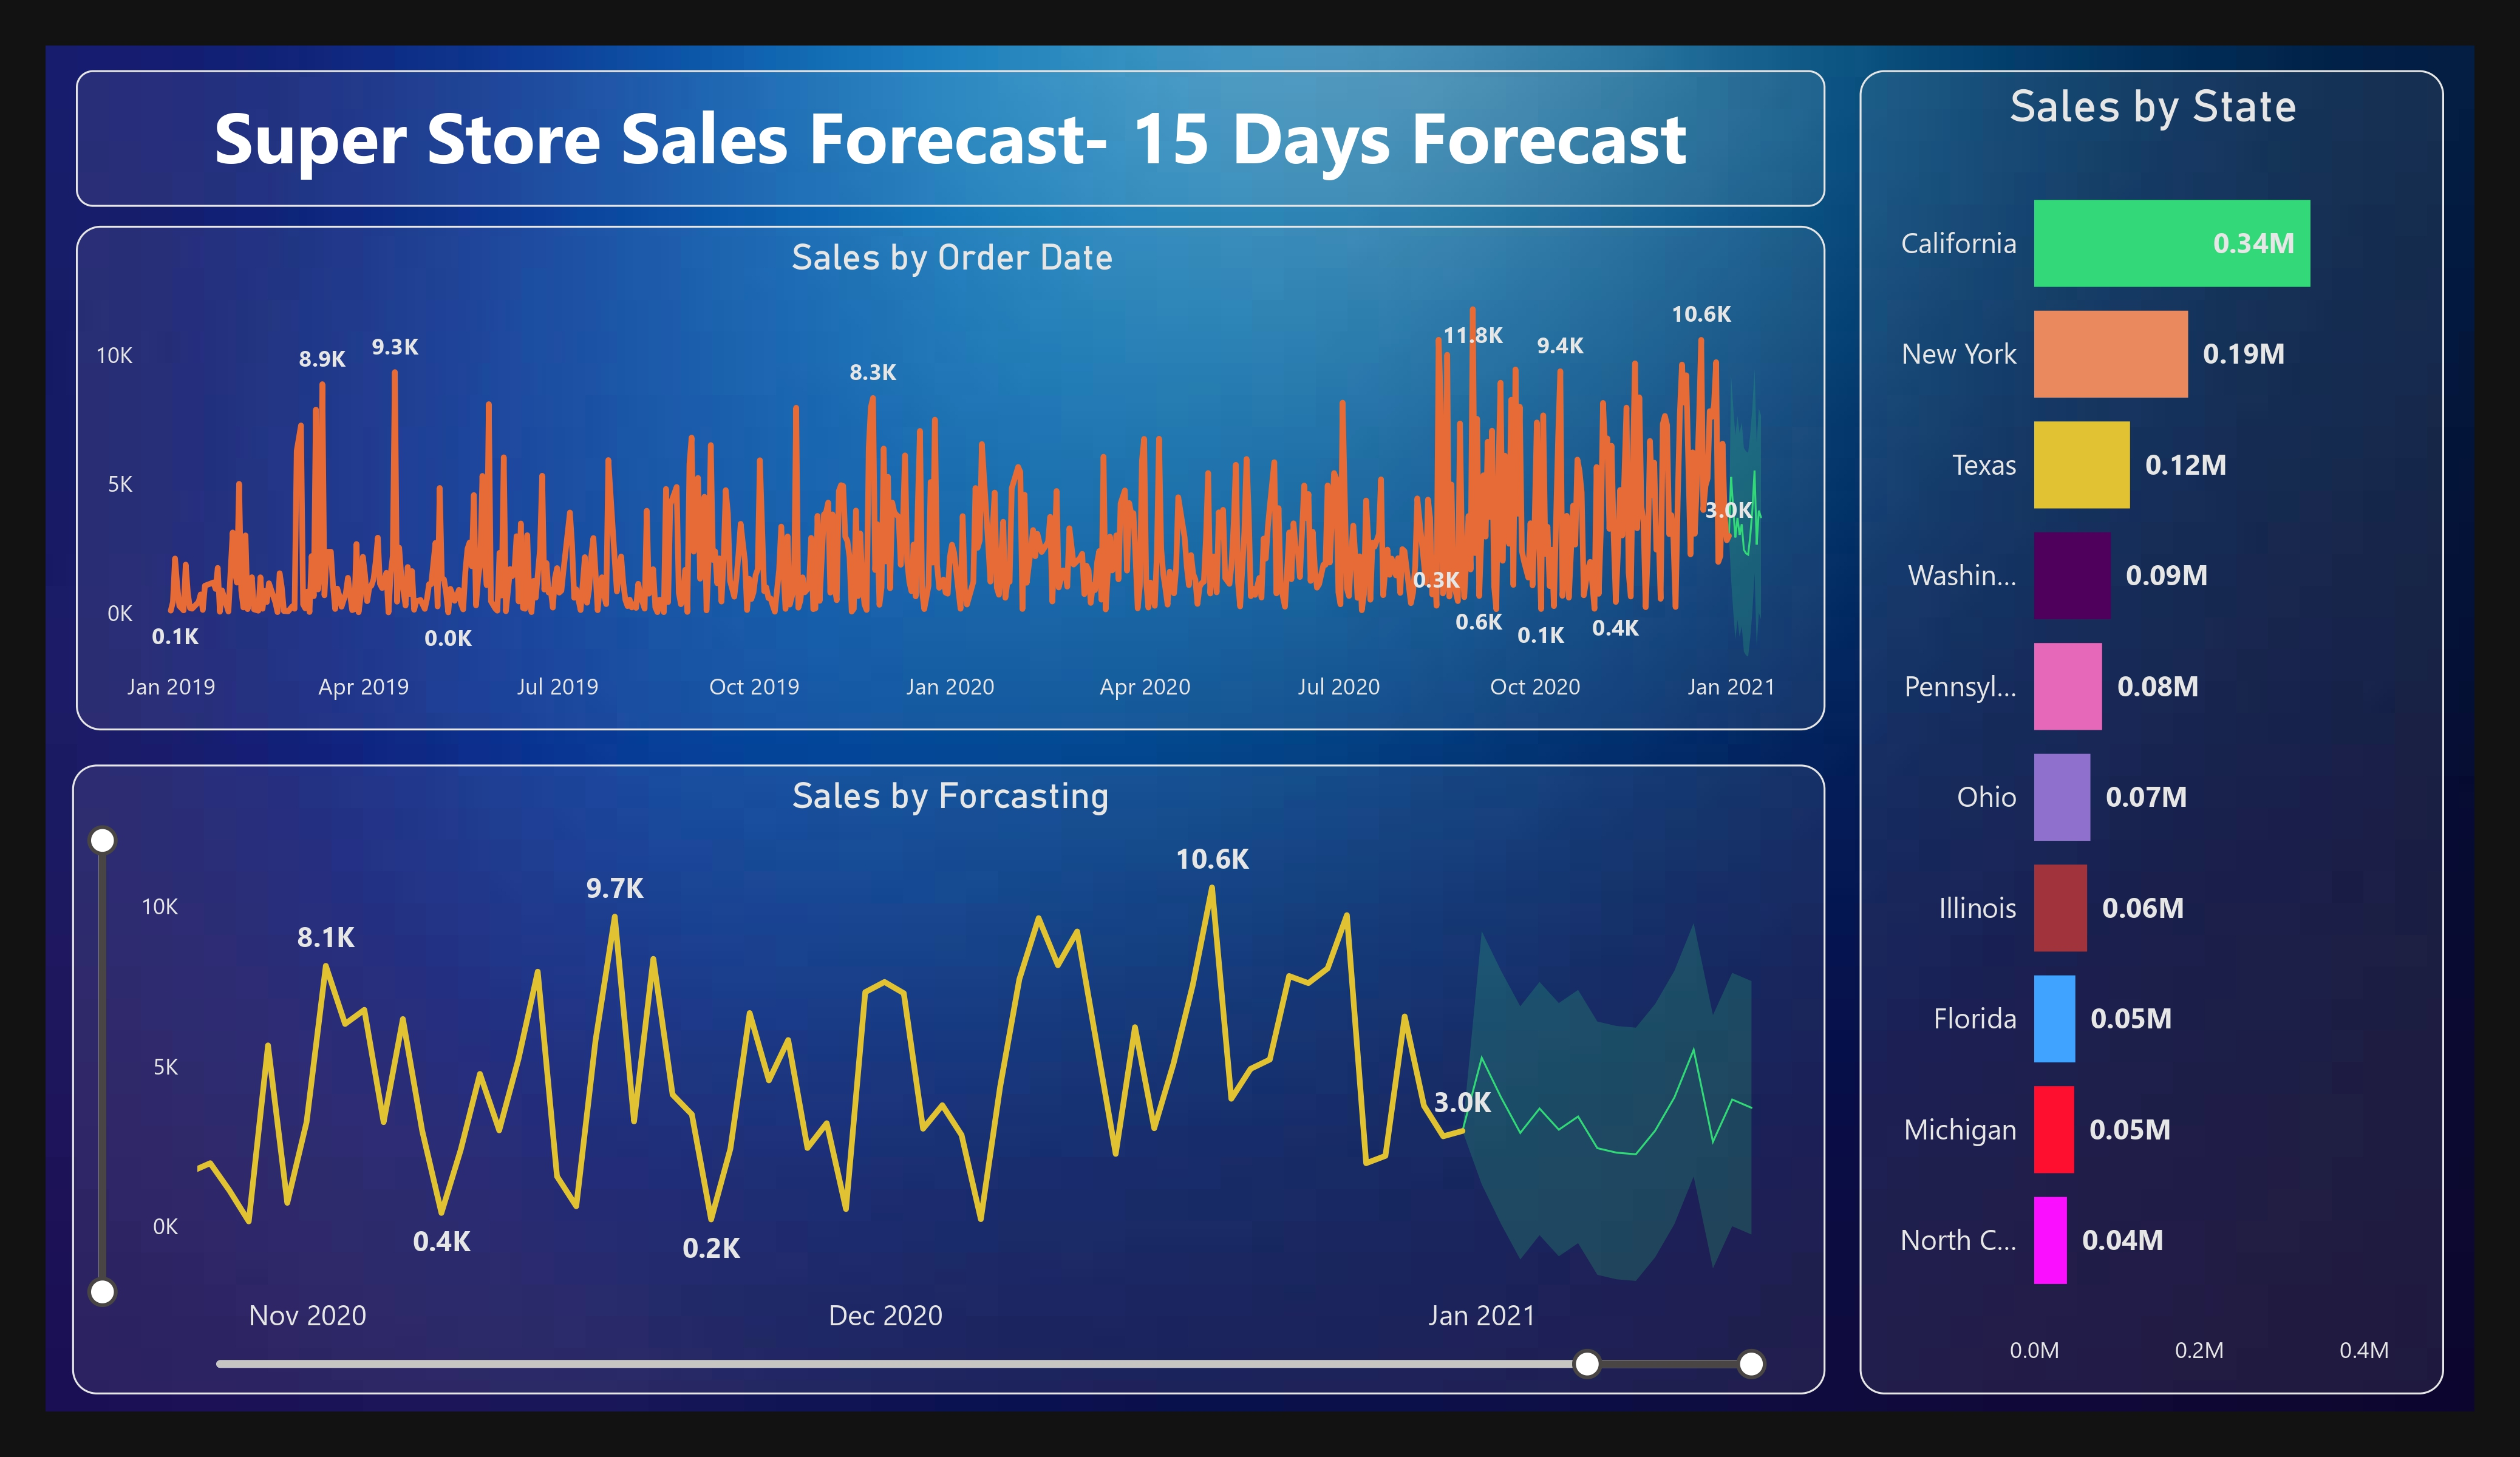

This screenshot's page, from the dashboard's own definition file:
{"tool":"powerbi","page":{"name":"Page 2","canvas":[1280,720],"ordinal":1},"visuals":[{"type":"lineChart","title":"Sales by Order Date","fields":{"Y":["Sum(SuperStore_Sales_Dataset.Sales)"],"Category":["SuperStore_Sales_Dataset.Order Date"]},"box":[15.9,95.4,922.4,266],"z":0},{"type":"lineChart","title":"Sales by Forcasting","fields":{"Y":["Sum(SuperStore_Sales_Dataset.Sales)"],"Category":["SuperStore_Sales_Dataset.Order Date"]},"box":[14.5,378.8,923.9,332.5],"z":1000},{"type":"clusteredBarChart","title":"Sales by State","fields":{"Category":["SuperStore_Sales_Dataset.State"],"Y":["Sum(SuperStore_Sales_Dataset.Sales)"]},"box":[955.7,13,308,698.3],"z":2000},{"type":"textbox","box":[15.9,13,922.4,72.3],"z":3000}]}

Visuals, with their boxes in screenshot pixels (x1, y1, x2, y2):
"Sales by Order Date" lineChart: (left=76, top=226, right=1826, bottom=731)
"Sales by Forcasting" lineChart: (left=73, top=764, right=1827, bottom=1395)
"Sales by State" clusteredBarChart: (left=1859, top=70, right=2443, bottom=1395)
textbox: (left=76, top=70, right=1826, bottom=208)
